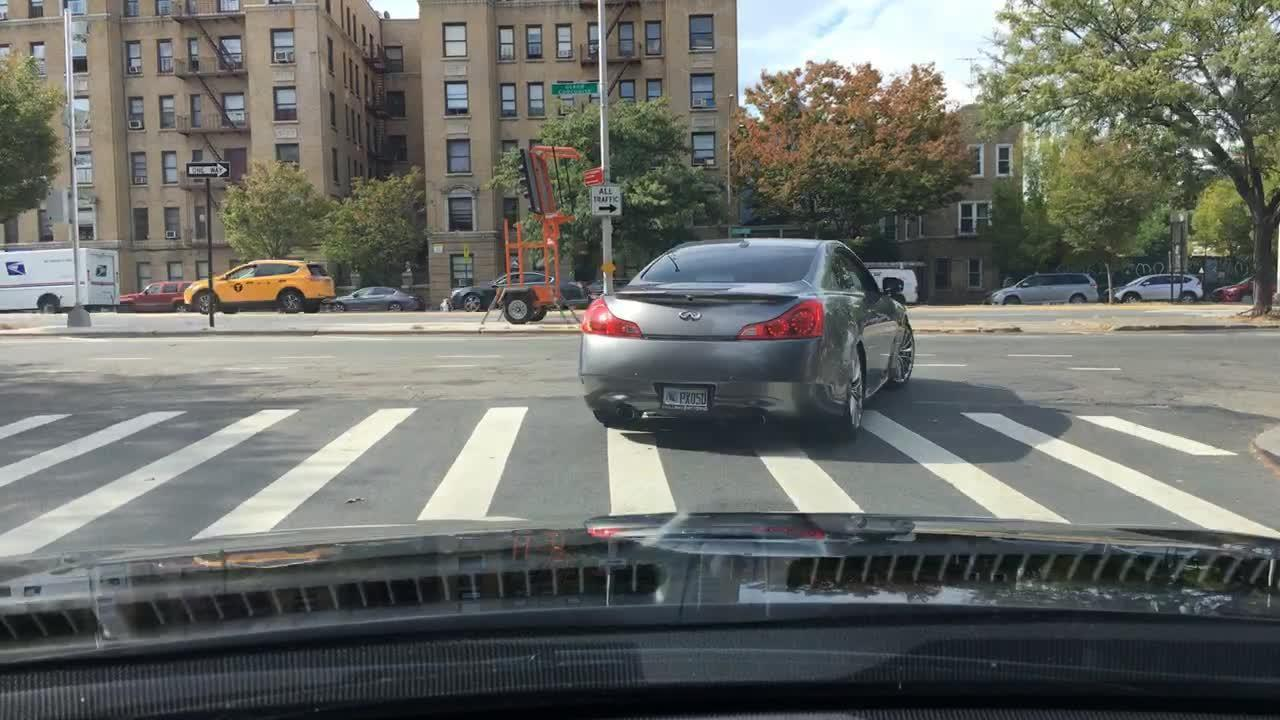Infiniti: (677, 306, 706, 325)
